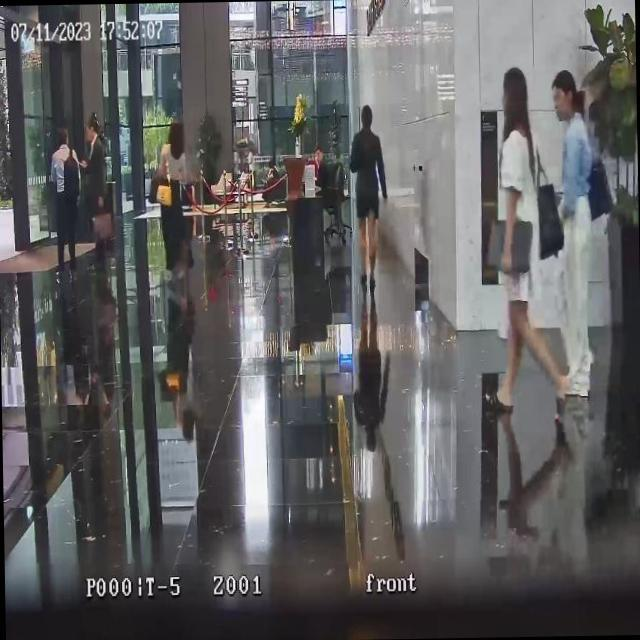person: (489, 63, 572, 434), (550, 68, 598, 398), (348, 102, 389, 288), (157, 114, 195, 283), (49, 126, 81, 270), (78, 112, 108, 240), (314, 147, 332, 197), (260, 161, 278, 208), (239, 162, 250, 205)
